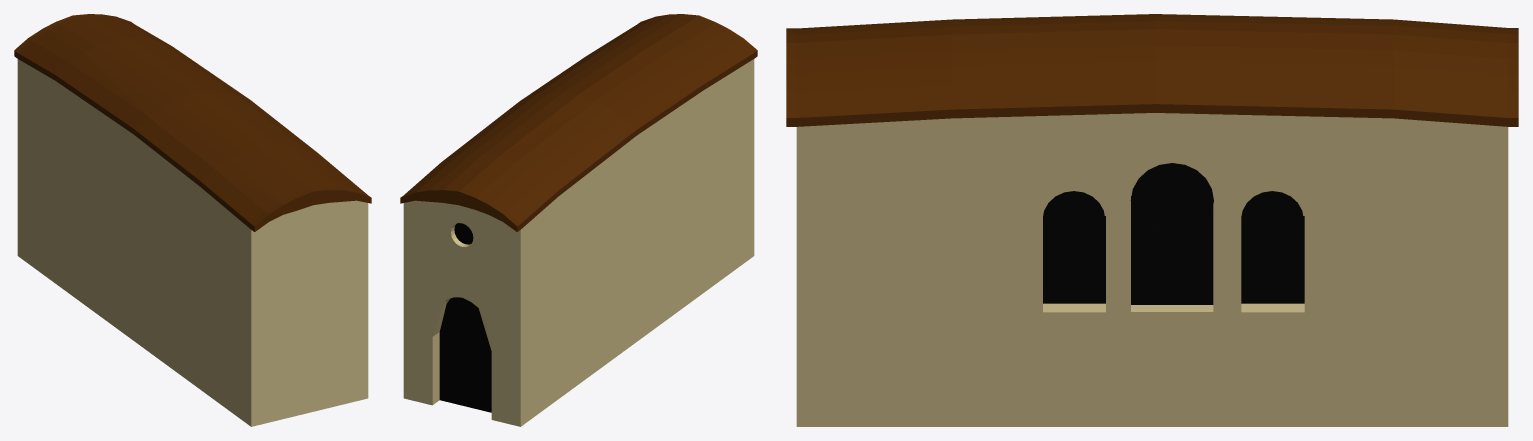
The model's file is sagrera1.fbx.
The picture shows the model from 3 angles, left to right: view 1: azimuth 30°, elevation 25°; view 2: azimuth 150°, elevation 25°; view 3: azimuth 270°, elevation 25°; orthographic projection. The views are drawn at different scales.
Parts seen in each view (by area): view 1: polySurface23; view 2: polySurface23; view 3: polySurface23.
Boxes of the visible parts, x1,y1,x2,y2 form: polySurface23: [14, 14, 371, 426]; polySurface23: [400, 14, 757, 426]; polySurface23: [786, 14, 1518, 426].
Bounding box in the file's own units: 19.77 × 37.57 × 70.36.
